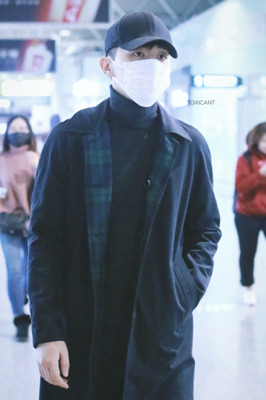with_mask: (116, 46, 172, 108), (7, 121, 31, 147)
